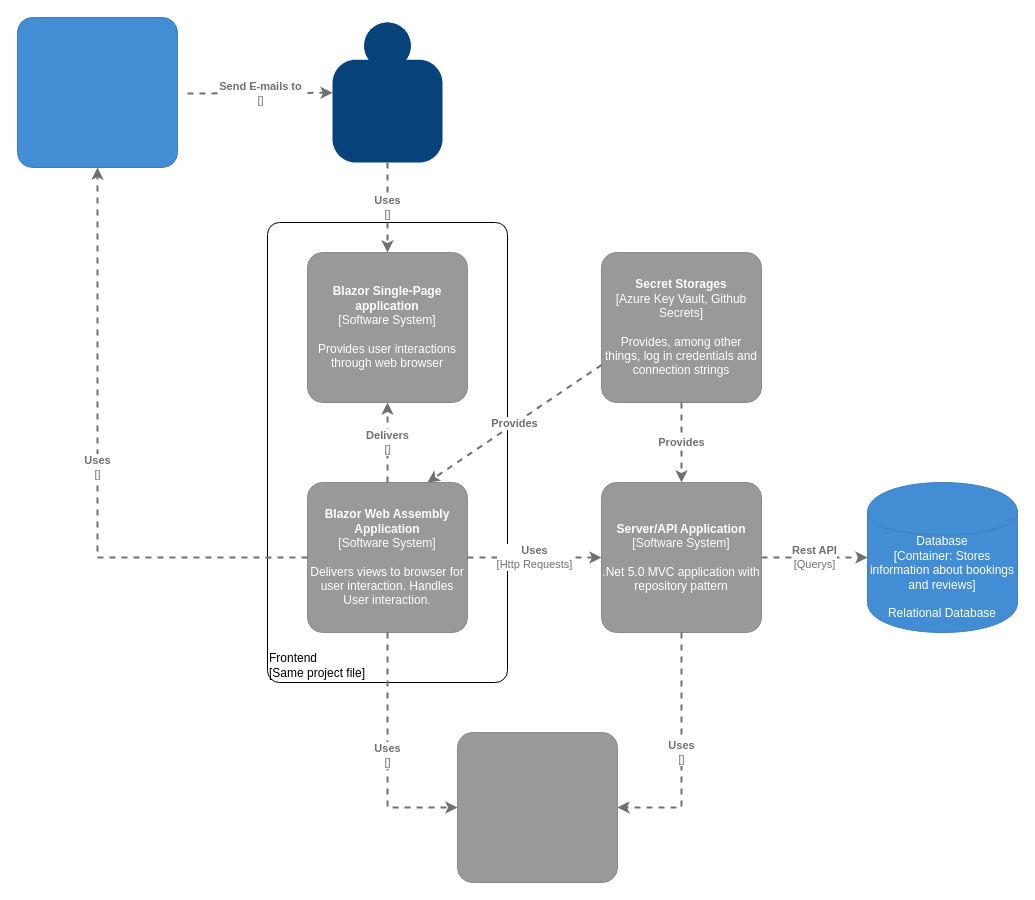
Some shapes in this 1035 by 900 pixel diagram are drawn without their labels. Each missing label, with the centre of its shape:
E-mail Service [Component: ] Sends confirmation mails upon booking: the point at 97,92
Hotel Guest [Person] A person using the hotel booking or rating system: the point at 387,92
Shared Model Library [Software System] .Net 5.0 Library: the point at 537,807
